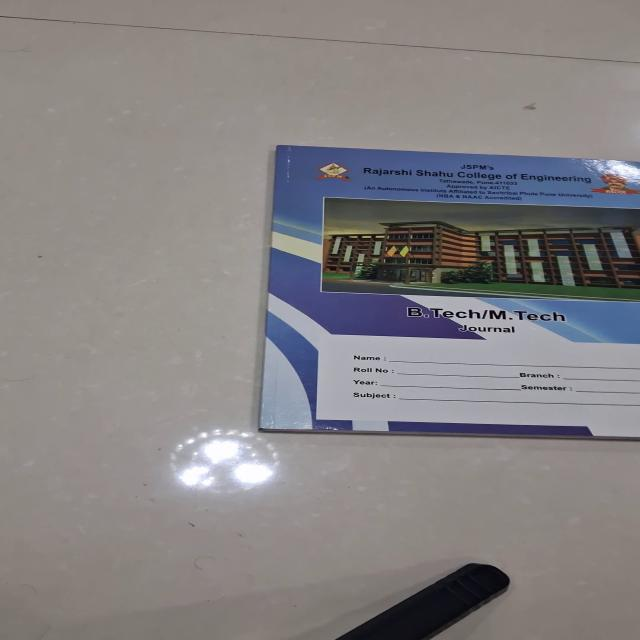paper: (257, 144, 639, 438)
